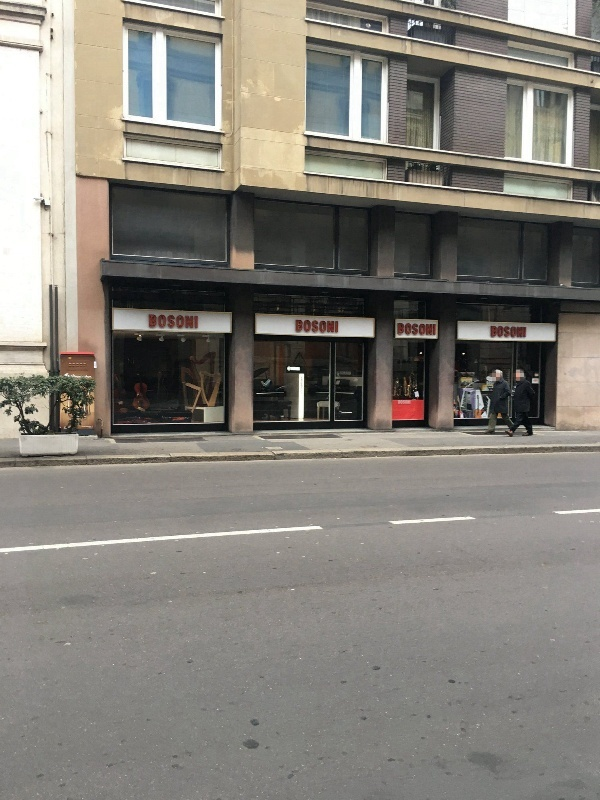text: (161, 314, 176, 329), (177, 314, 192, 329), (305, 320, 320, 333), (321, 320, 336, 333), (401, 323, 416, 336), (417, 323, 432, 336), (497, 326, 512, 339), (513, 326, 527, 339), (149, 314, 160, 329), (295, 320, 304, 333), (193, 314, 199, 329), (490, 326, 496, 339), (340, 371, 352, 377), (301, 377, 304, 395), (433, 323, 437, 336), (401, 401, 411, 405), (337, 320, 339, 333), (398, 323, 400, 336), (399, 401, 400, 405)
